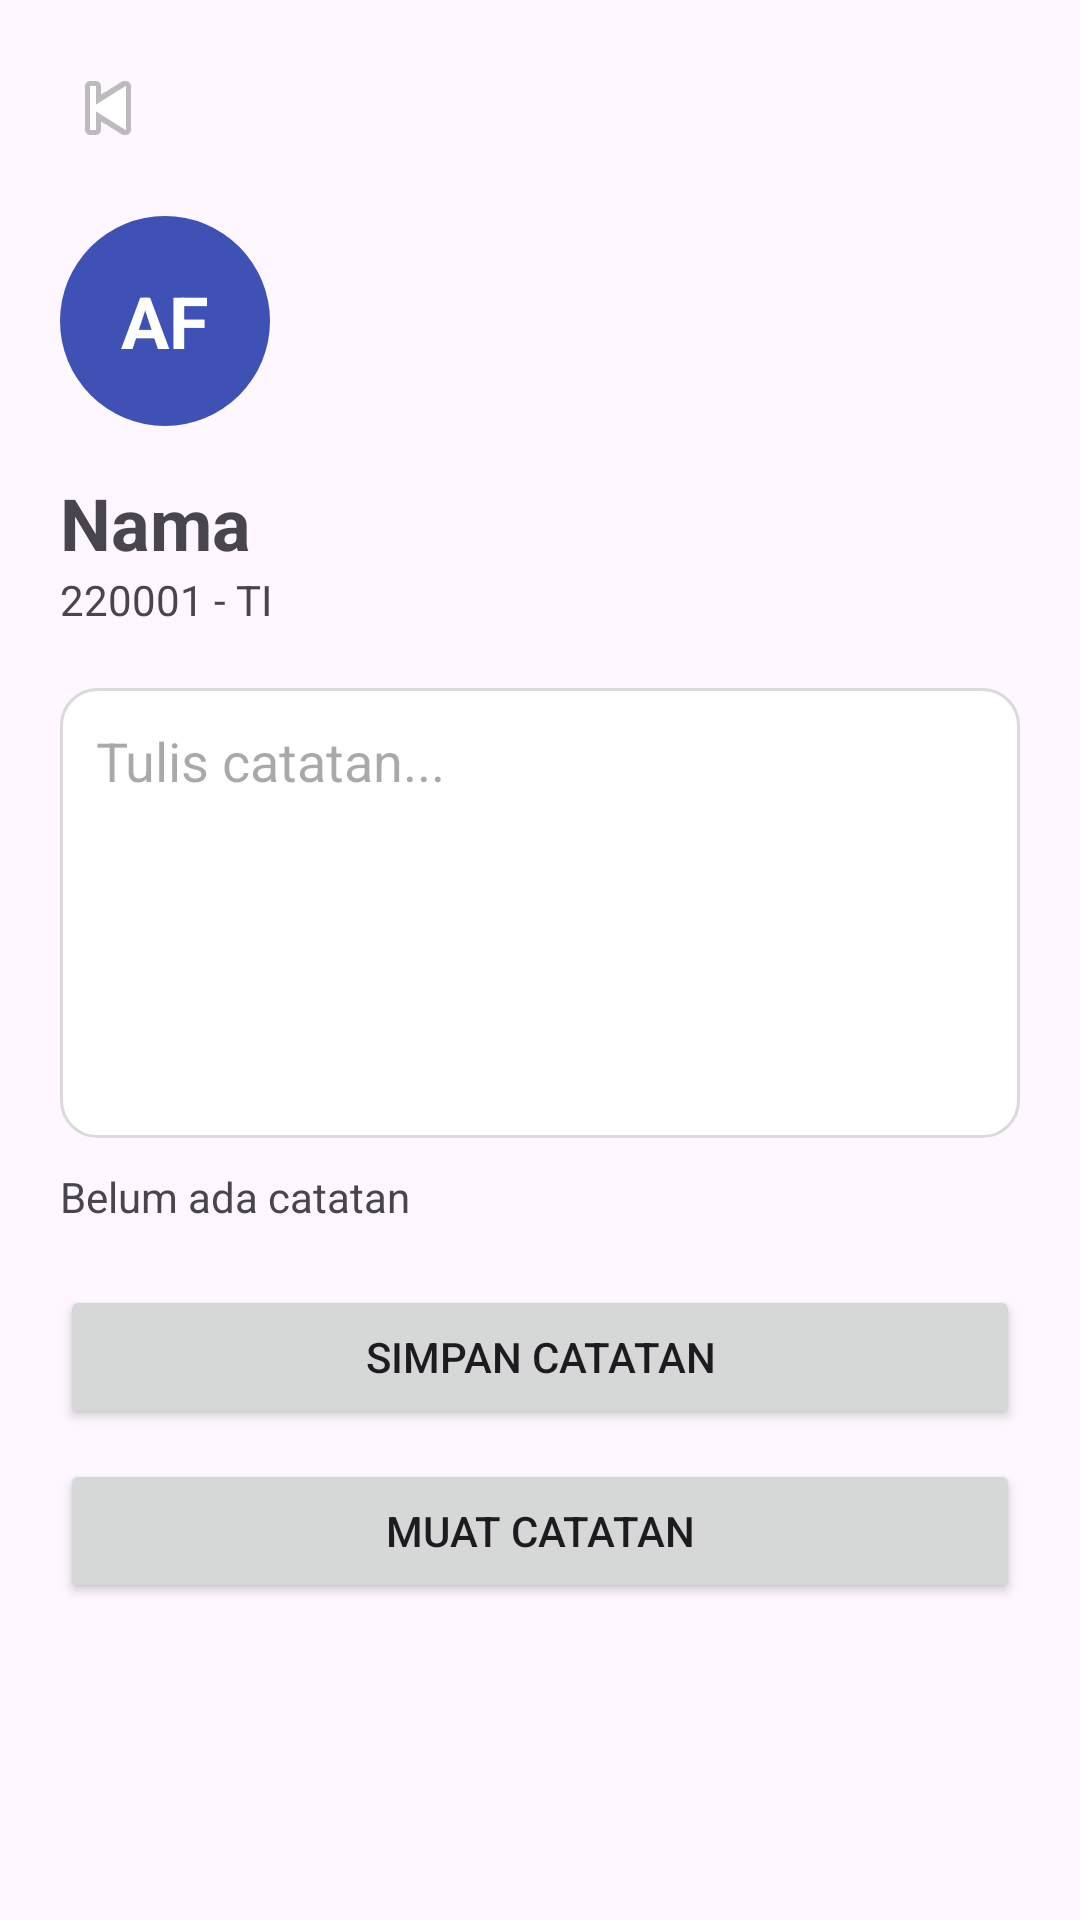

Icons on this 1080w x 1920h Android screen, each with the point to tap as (x=x, y=y):
previous: (x=108, y=108)
